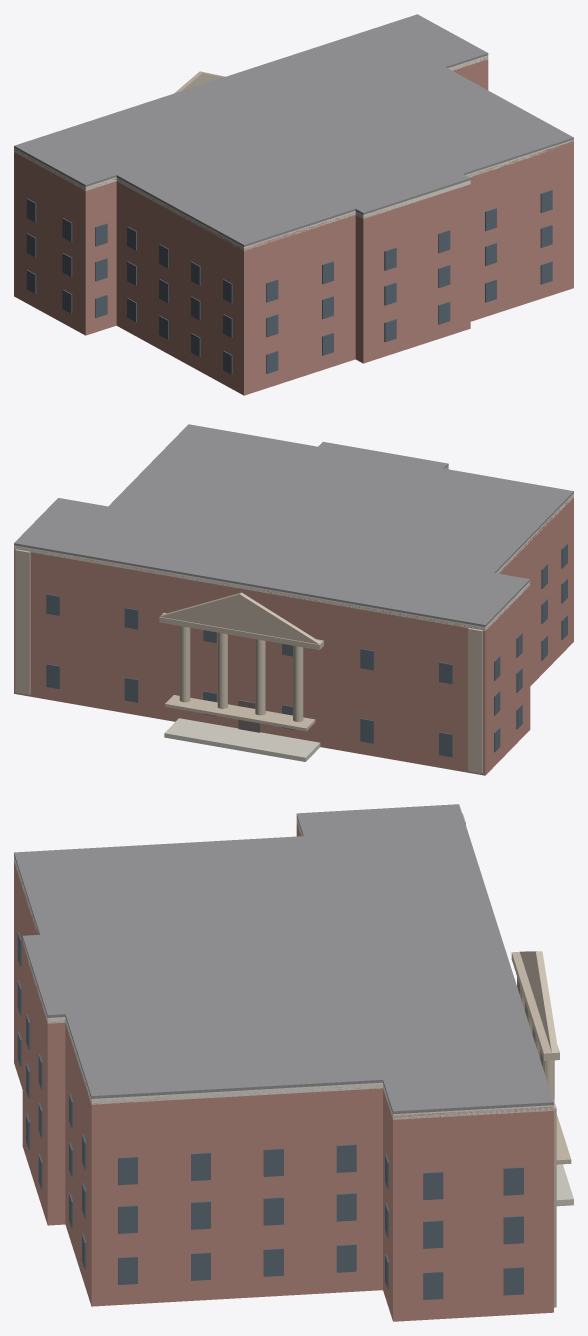
Rendered from d_nb_city_hall.glb.
3 views of the same model, one above another, from view 1: azimuth 30°, elevation 25°; view 2: azimuth 150°, elevation 25°; view 3: azimuth 270°, elevation 25° (orthographic). The views are drawn at different scales.
Visible parts, largest first — view 1: mass, roofcap, cornice; view 2: mass, roofcap, pedC, stepC, cornice, pilC_0.02, pilC_0.98, canC, entC, colC_0.38, colC_0.54, colC_0.46 (+1 smaller); view 3: roofcap, mass, cornice, pedC, entC.
Part boxes in pixels (x1,y1,x2,y2): mass: (14,56,573,395); roofcap: (14,14,573,246); cornice: (14,55,573,250); mass: (14,467,573,775); roofcap: (14,424,573,626); pedC: (160,592,321,644); stepC: (164,718,320,761); cornice: (14,466,573,630); pilC_0.02: (15,549,30,694); pilC_0.98: (468,628,482,773); canC: (165,695,315,731); entC: (159,612,323,650); colC_0.38: (179,626,190,702); colC_0.54: (255,639,265,715); colC_0.46: (217,632,227,708); roofcap: (14,804,553,1114); mass: (14,820,553,1321); cornice: (14,817,553,1119); pedC: (520,951,558,1052); entC: (511,952,559,1060).
Bounding box in the file's own units: 54.12 × 17.28 × 41.69.
